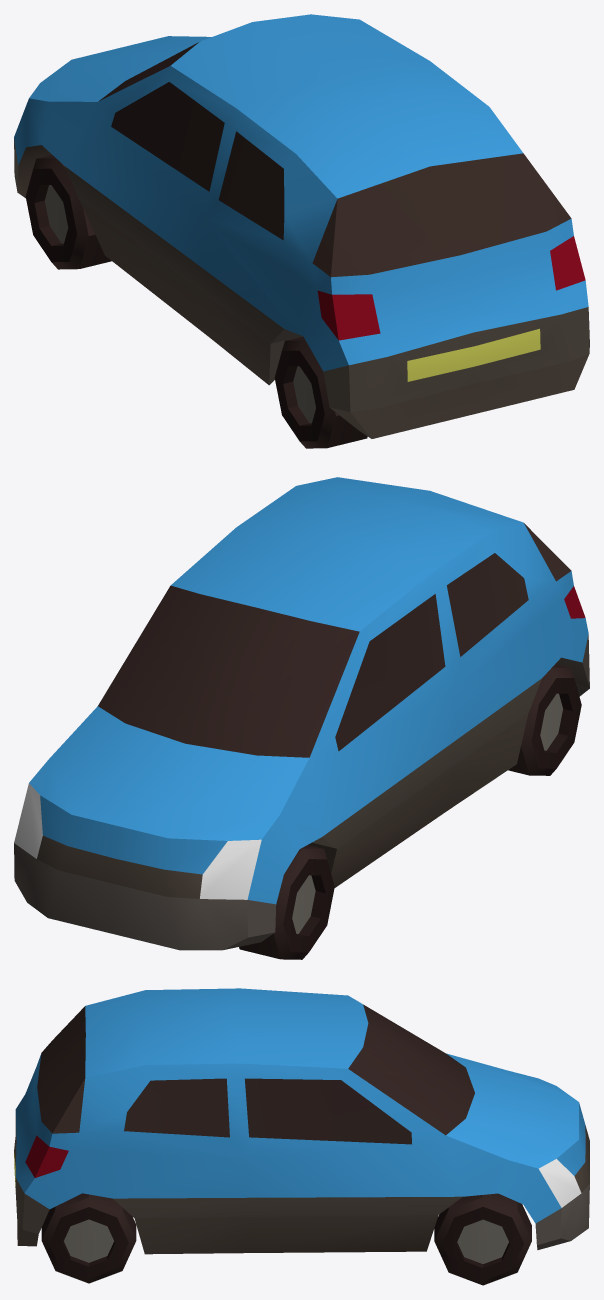
The model's file is carModel2.obj.
3 views of the same model, one above another, from view 1: azimuth 30°, elevation 25°; view 2: azimuth 150°, elevation 25°; view 3: azimuth 270°, elevation 25° (orthographic). The views are drawn at different scales.
Visible parts, largest first — view 1: Car_Carrosserie, Car_Base; view 2: Car_Carrosserie, Car_Base; view 3: Car_Carrosserie, Car_Base.
Boxes of the visible parts, left/top/right/bottom form: Car_Carrosserie: left=14, top=14, right=588, bottom=371; Car_Base: left=14, top=42, right=589, bottom=448; Car_Carrosserie: left=29, top=477, right=588, bottom=904; Car_Base: left=14, top=523, right=589, bottom=959; Car_Carrosserie: left=15, top=988, right=585, bottom=1223; Car_Base: left=14, top=1004, right=589, bottom=1285.
Size of the model in its own units: 1.94 by 1.98 by 4.67.
Materials: 3 (3 with a texture image).
